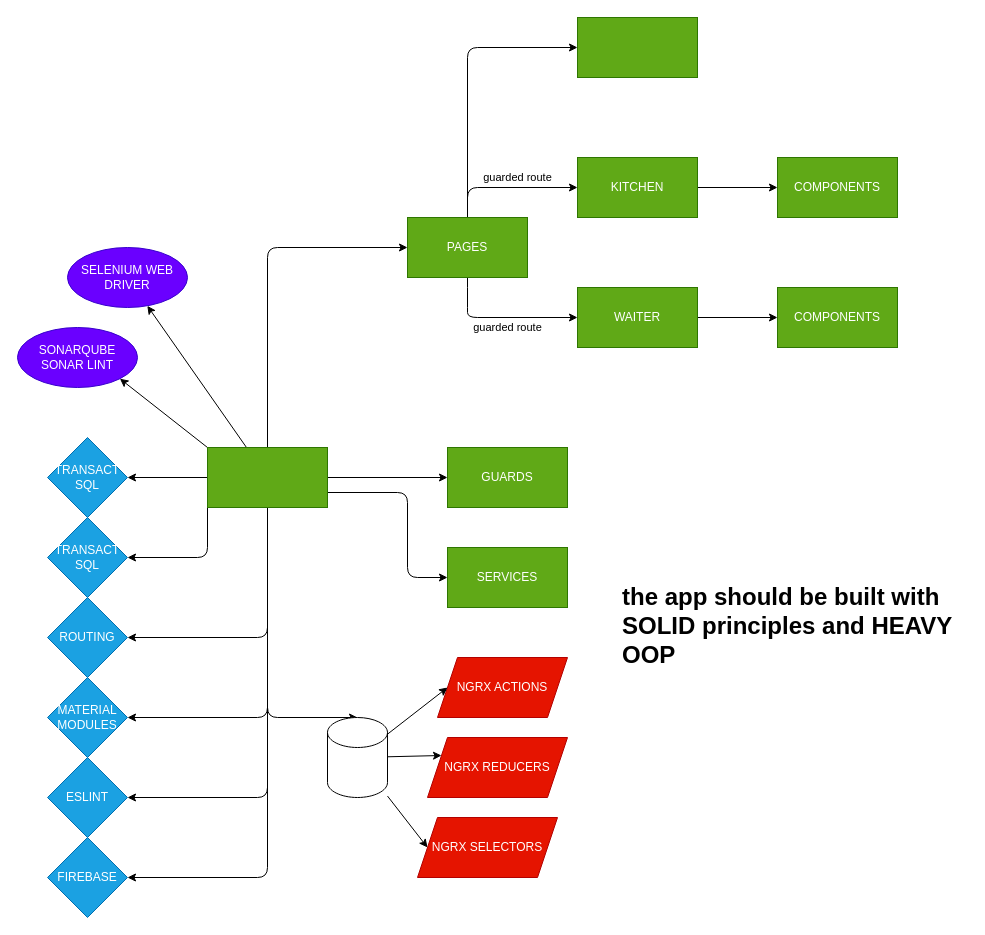
This 985x935 diagram has some shape labels left out. The centre of each missing label's shape, as x and y in pixels:
"LOGIN" goes at pixel 637 47.
"NGRX STORE" goes at pixel 357 757.
"RESTAURANT APP" goes at pixel 267 477.
